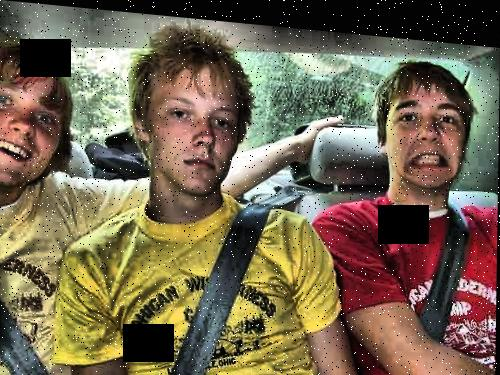seatbelt: (160, 172, 292, 375), (383, 184, 474, 375), (0, 269, 60, 375)
